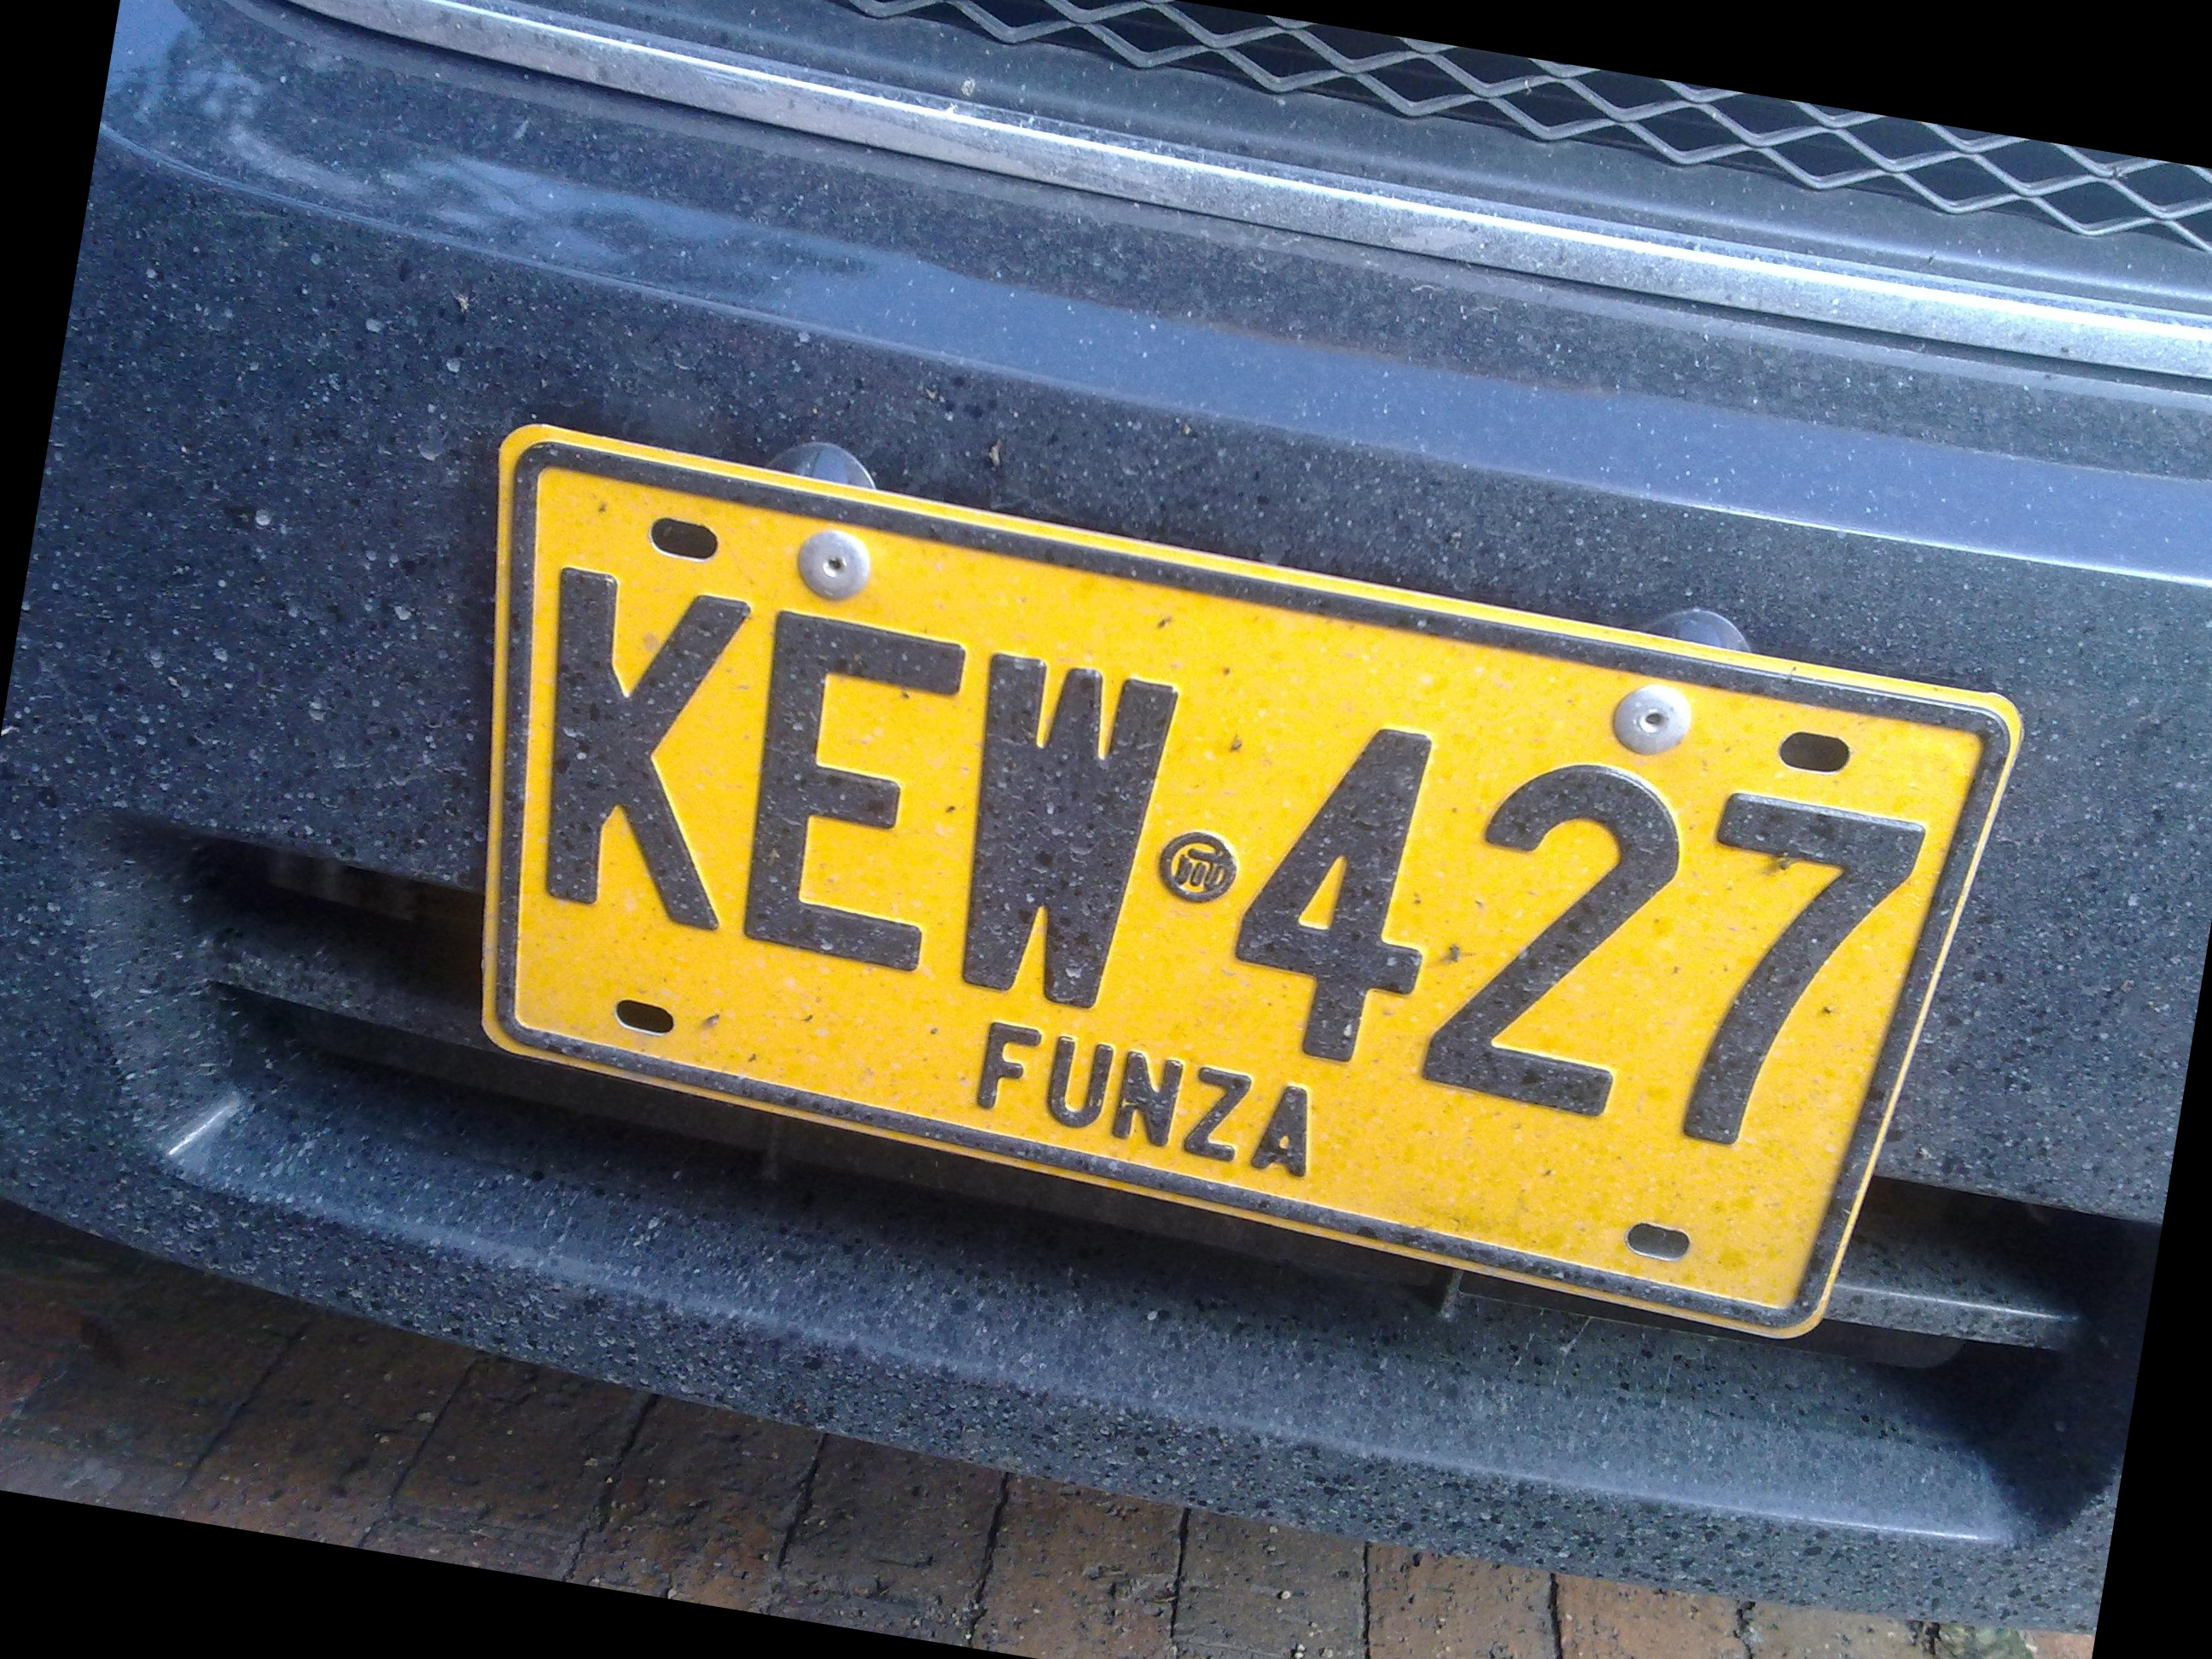placas: (379, 402, 2042, 1377)
